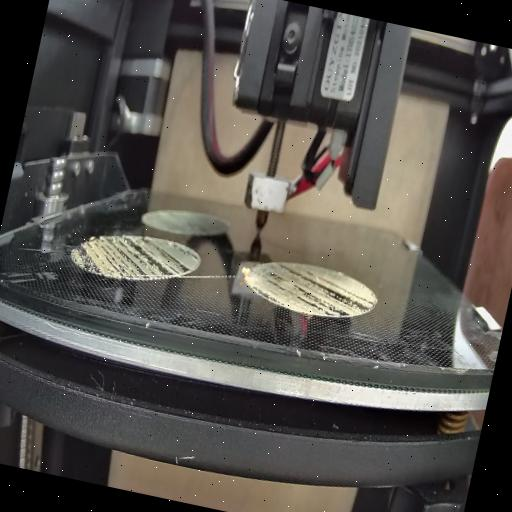under_extrusion: (70, 226, 198, 292), (250, 261, 377, 324)
